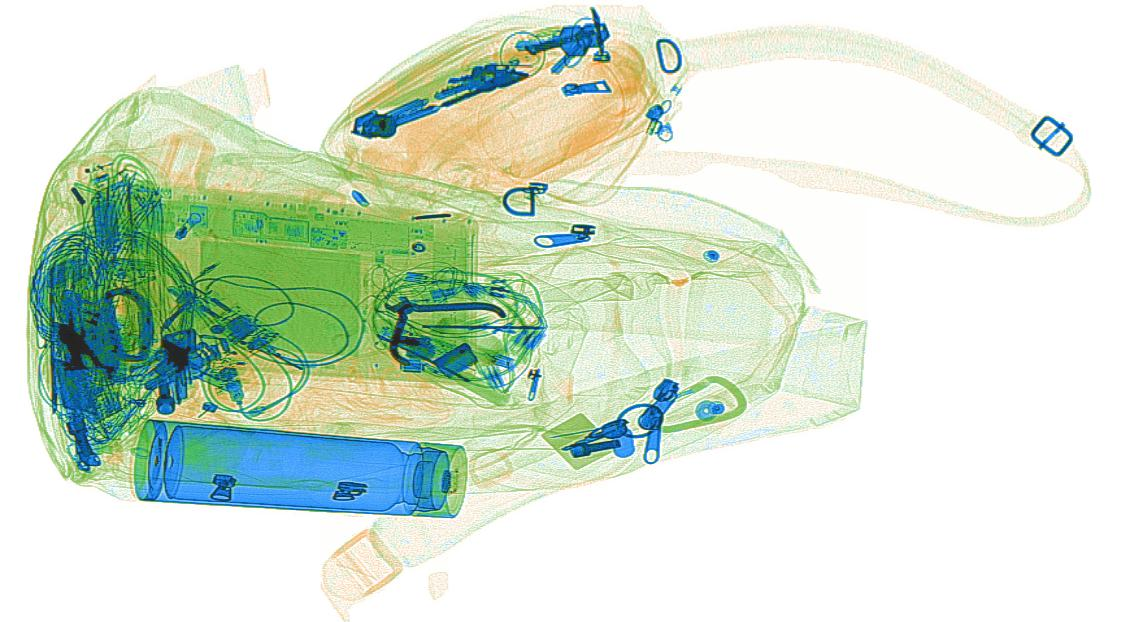battery: (89, 193, 124, 254)
